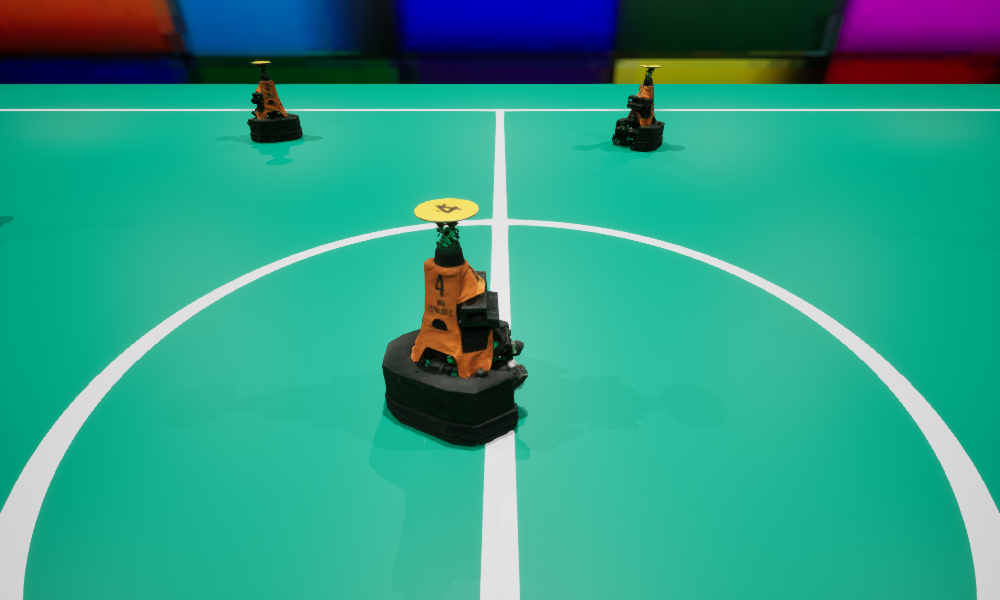o: (382, 198, 527, 446), (247, 61, 302, 142), (612, 65, 664, 150)
